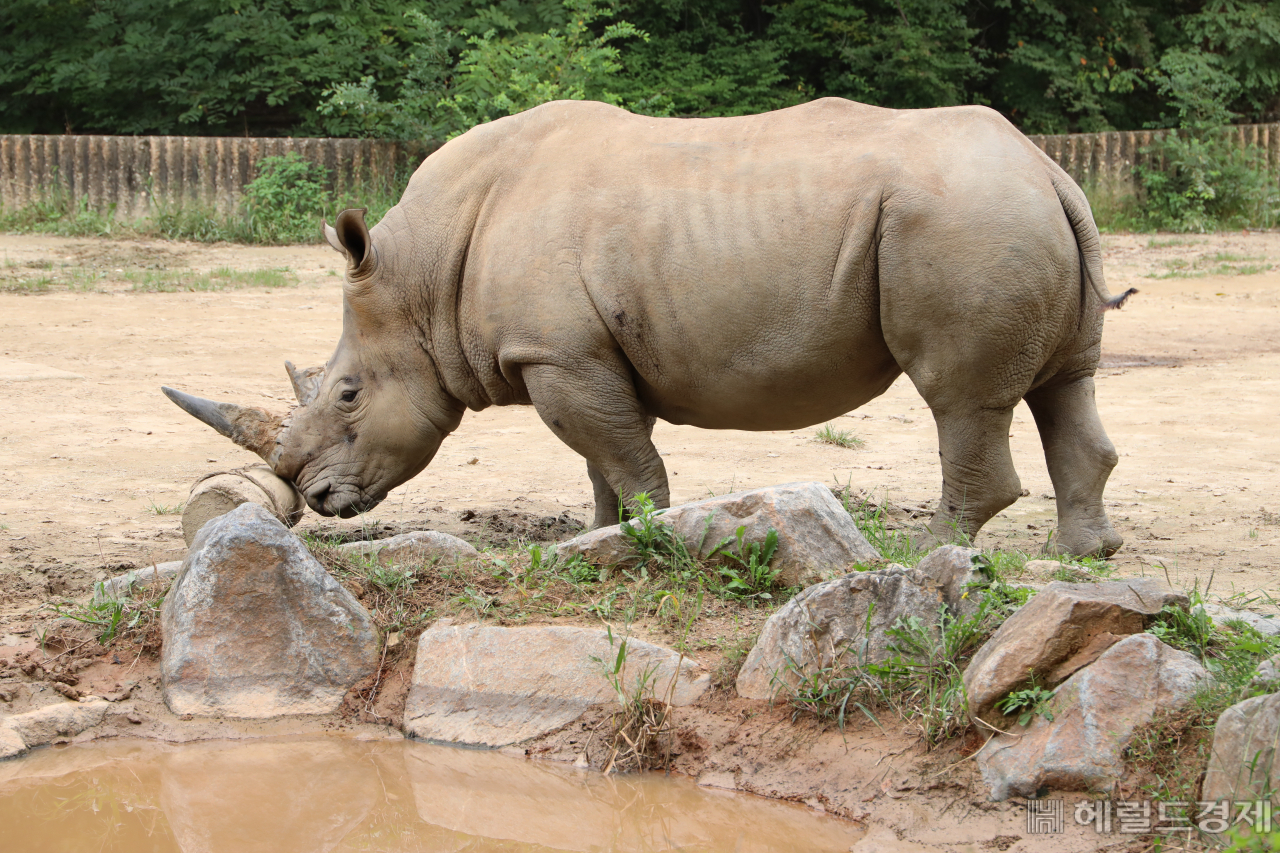Rhinoceros: (136, 73, 1137, 576)
